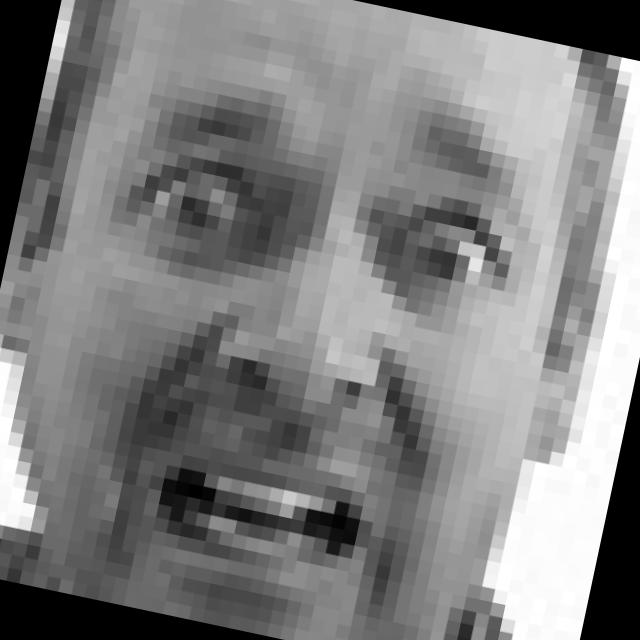fear: (28, 43, 562, 640)
